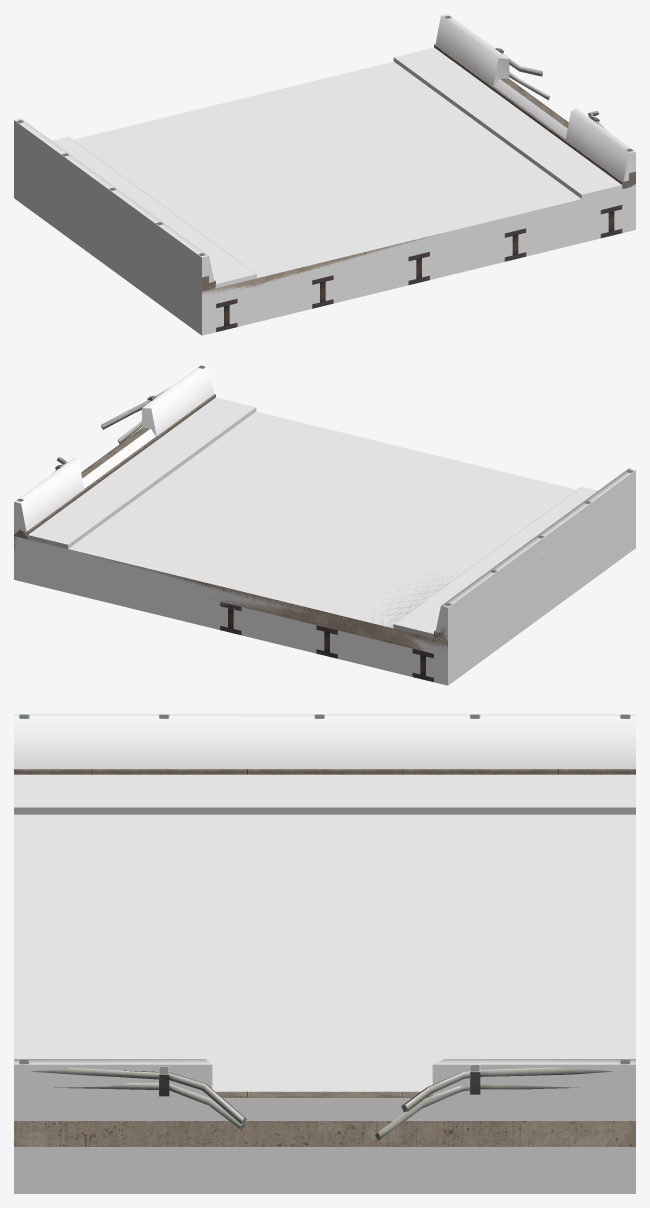
Rendered from street_overpass_B.fbx.
3 views of the same model, one above another, from view 1: azimuth 30°, elevation 25°; view 2: azimuth 150°, elevation 25°; view 3: azimuth 270°, elevation 25° (orthographic). The views are drawn at different scales.
Parts seen in each view (by area): view 1: street_overpass_B_COL, street_overpass_B; view 2: street_overpass_B_COL, street_overpass_B; view 3: street_overpass_B_COL, street_overpass_B.
Boxes of the visible parts, x1=… form: street_overpass_B_COL: x1=14, y1=14, x2=635, y2=335; street_overpass_B: x1=16, y1=15, x2=635, y2=332; street_overpass_B_COL: x1=14, y1=364, x2=635, y2=685; street_overpass_B: x1=14, y1=365, x2=633, y2=682; street_overpass_B_COL: x1=14, y1=714, x2=635, y2=1193; street_overpass_B: x1=14, y1=714, x2=635, y2=1146.
Bounding box in the file's own units: 1718 × 277 × 1200.
